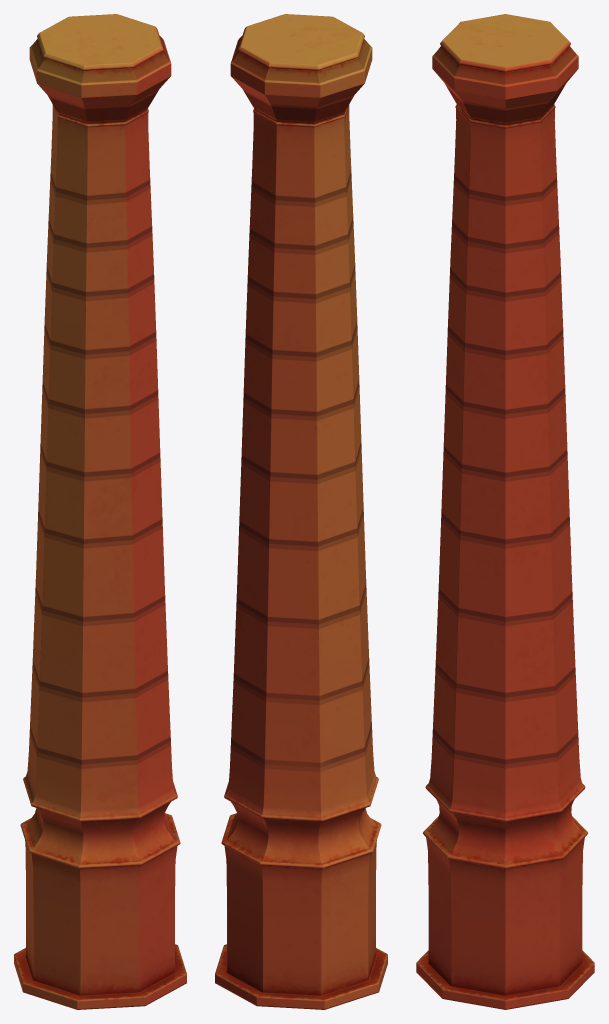
File: chimeneaNaranja.fbx
3 renders of one model, left to right at view 1: azimuth 30°, elevation 25°; view 2: azimuth 150°, elevation 25°; view 3: azimuth 270°, elevation 25°, orthographic.
Visible parts, largest first — view 1: chimeneaNaranja; view 2: chimeneaNaranja; view 3: chimeneaNaranja.
Boxes of the visible parts, x1=… form: chimeneaNaranja: x1=14, y1=14, x2=186, y2=1009; chimeneaNaranja: x1=215, y1=14, x2=387, y2=1009; chimeneaNaranja: x1=416, y1=14, x2=594, y2=1009.
Size of the model in its own units: 2.37 by 13.65 by 2.37.
